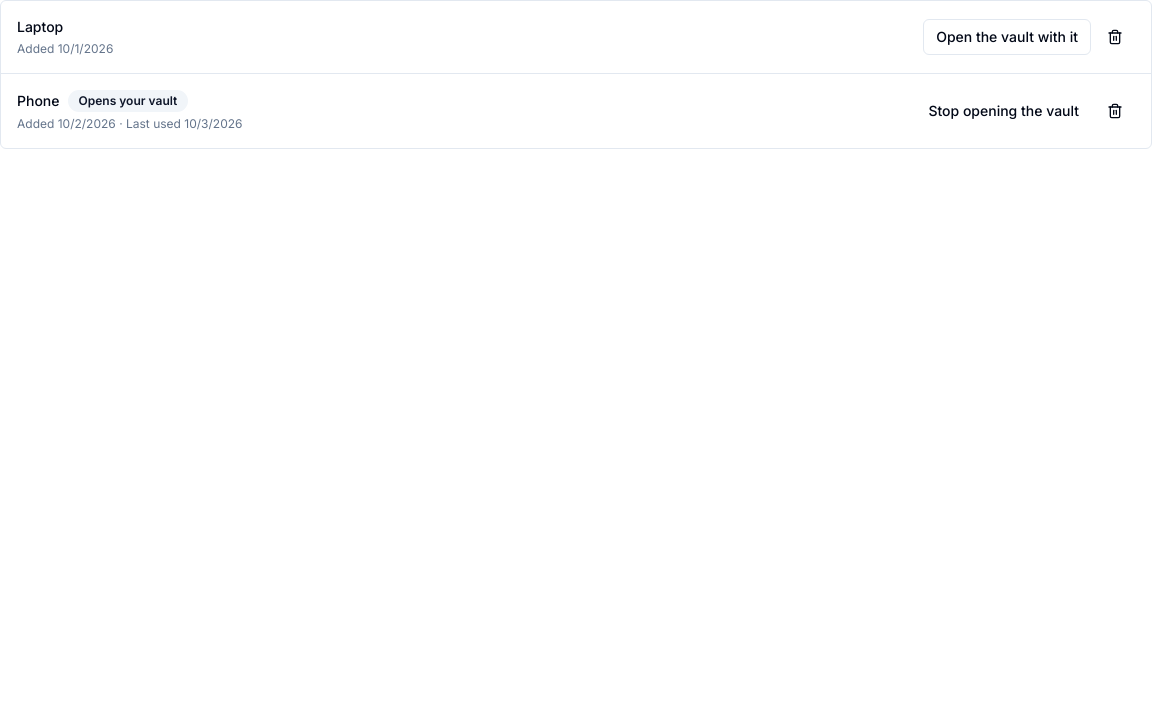
Test case: PasskeyList › warns that removing a passkey that opens the vault stops that too
Click the button named "Remove Phone".
click(1115, 111)  # box [1095, 91, 1135, 131]
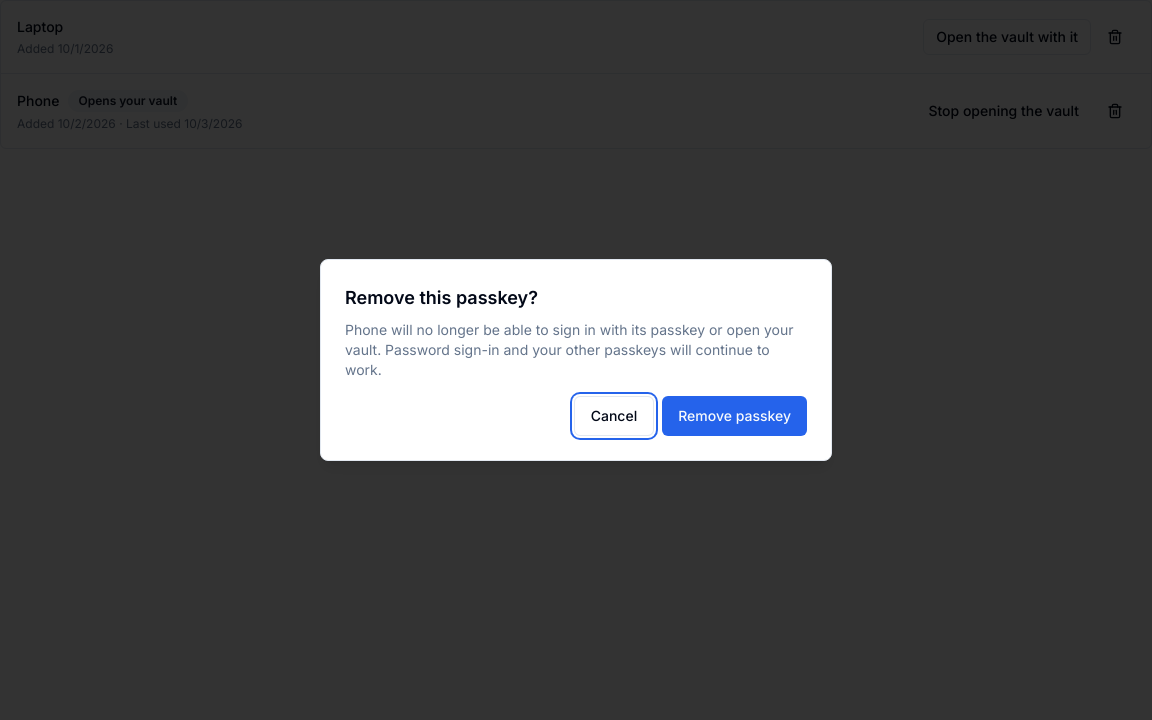
Result: the dialog shows "sign in with its passkey or open your vault" at [320, 259, 832, 461]
